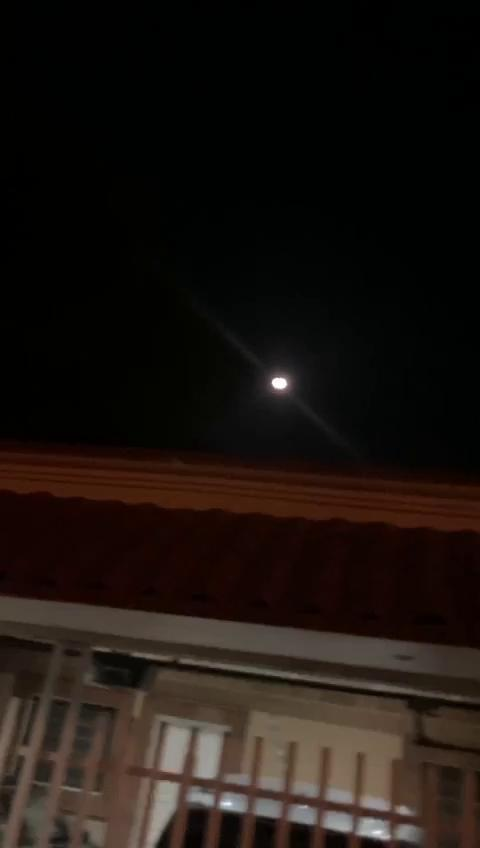moon: (262, 362, 302, 397)
